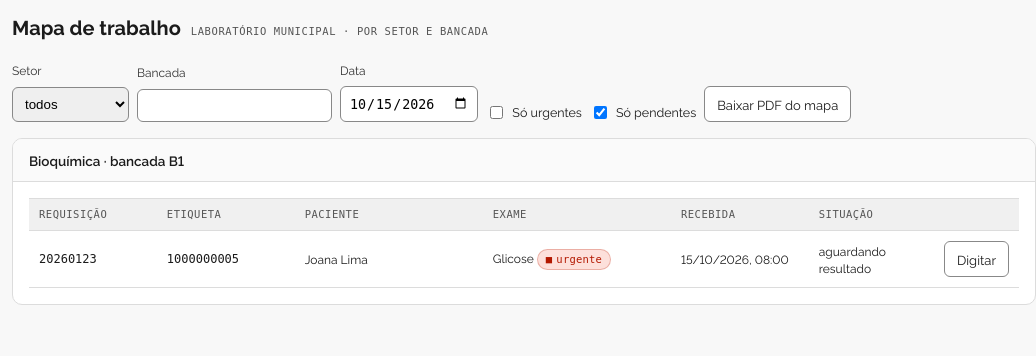
Test: LabWorklist › falha ao abrir mostra a mensagem e some ao mudar filtro
Click the button "Digitar".
click(976, 259)  # box [944, 241, 1009, 277]
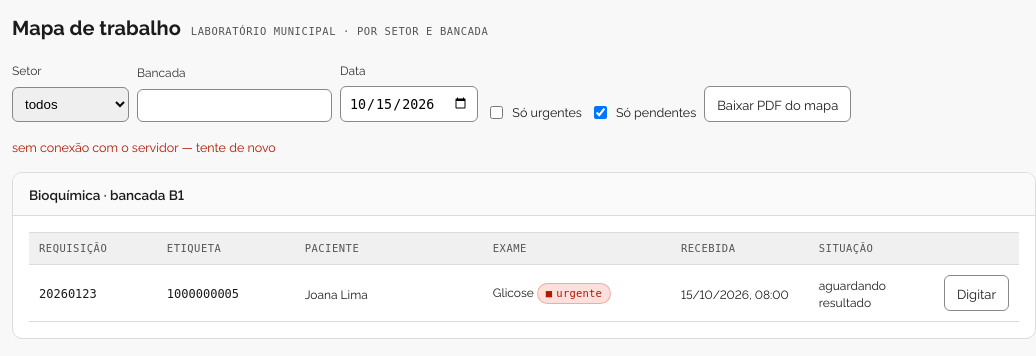
Now the message "sem conexão com o servidor — tente de novo" is shown, box [12, 138, 276, 155]
Click the checkbox labelled "Só urgentes".
click(497, 112)  # box [490, 106, 503, 119]
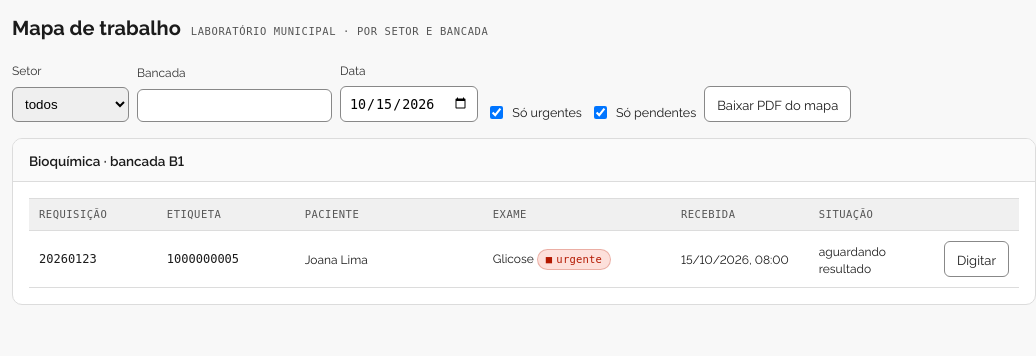
Now the message "sem conexão com o servidor — tente de novo" is gone
